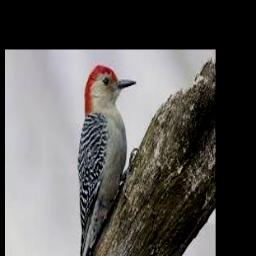Woodpecker: (67, 65, 136, 256)
